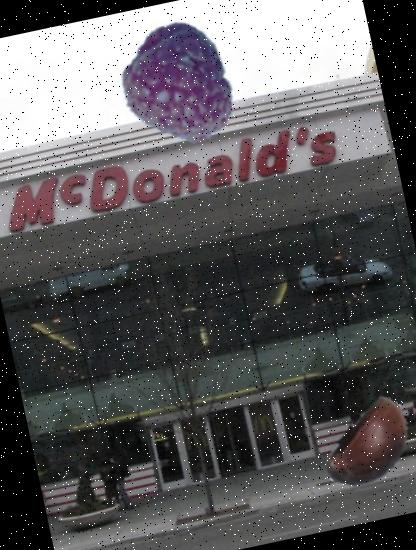Chestnut: (311, 387, 416, 508)
Raspberry: (100, 12, 250, 161)
